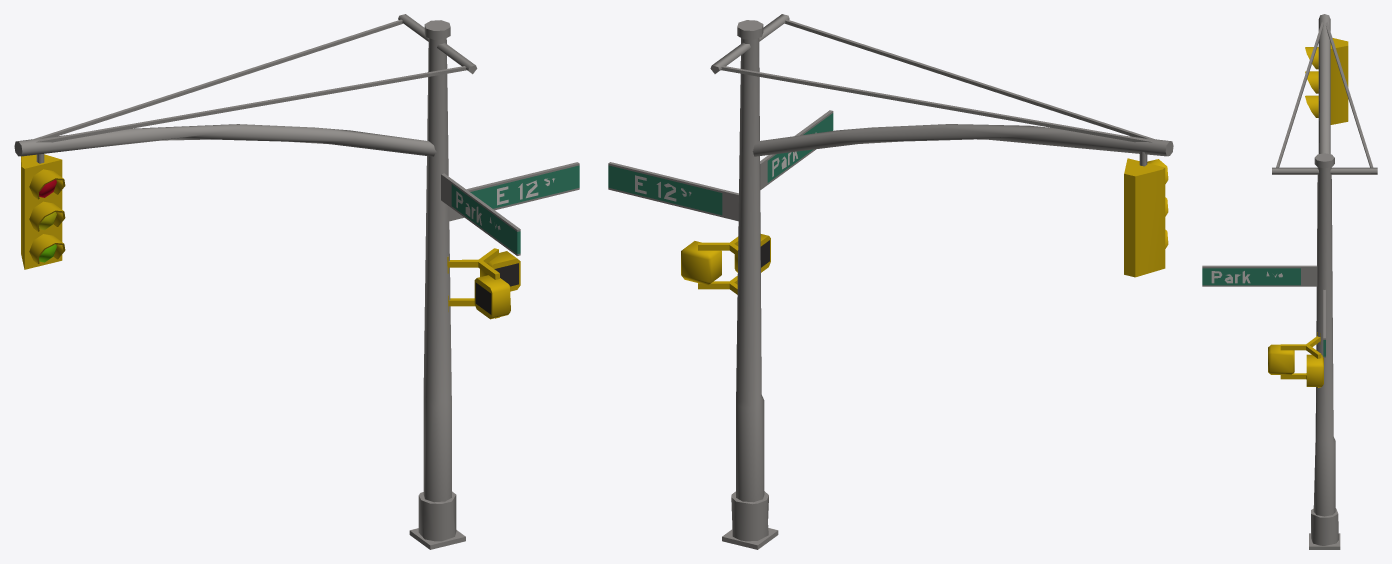
The model's file is traffic-light.glb.
The picture shows the model from 3 angles, left to right: view 1: azimuth 30°, elevation 25°; view 2: azimuth 150°, elevation 25°; view 3: azimuth 270°, elevation 25°; orthographic projection. The views are drawn at different scales.
Visible parts, largest first — view 1: TrafficLight_2; view 2: TrafficLight_2; view 3: TrafficLight_2.
Boxes of the visible parts, box(x1,y1,x2,y2) form: TrafficLight_2: box(14, 14, 579, 549); TrafficLight_2: box(608, 14, 1173, 549); TrafficLight_2: box(1202, 14, 1377, 549).
Bounding box in the file's own units: 5.34 × 4.66 × 1.92.
Materials: 1 (1 with a texture image).
